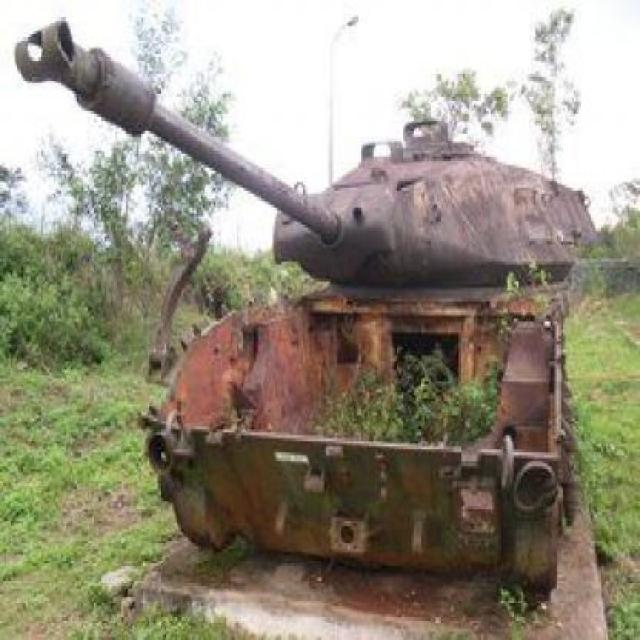corrosion: (14, 9, 598, 598)
